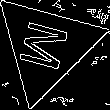M_E: (16, 18, 77, 75)
